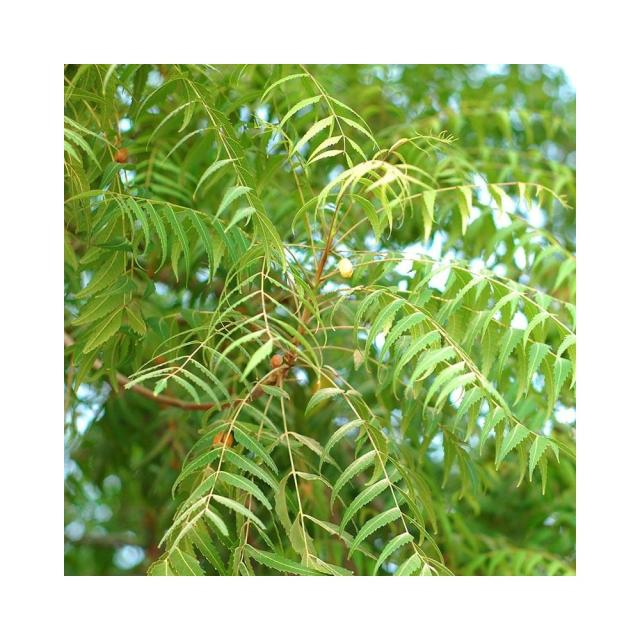Medicinal-Neem: (82, 78, 558, 574)
